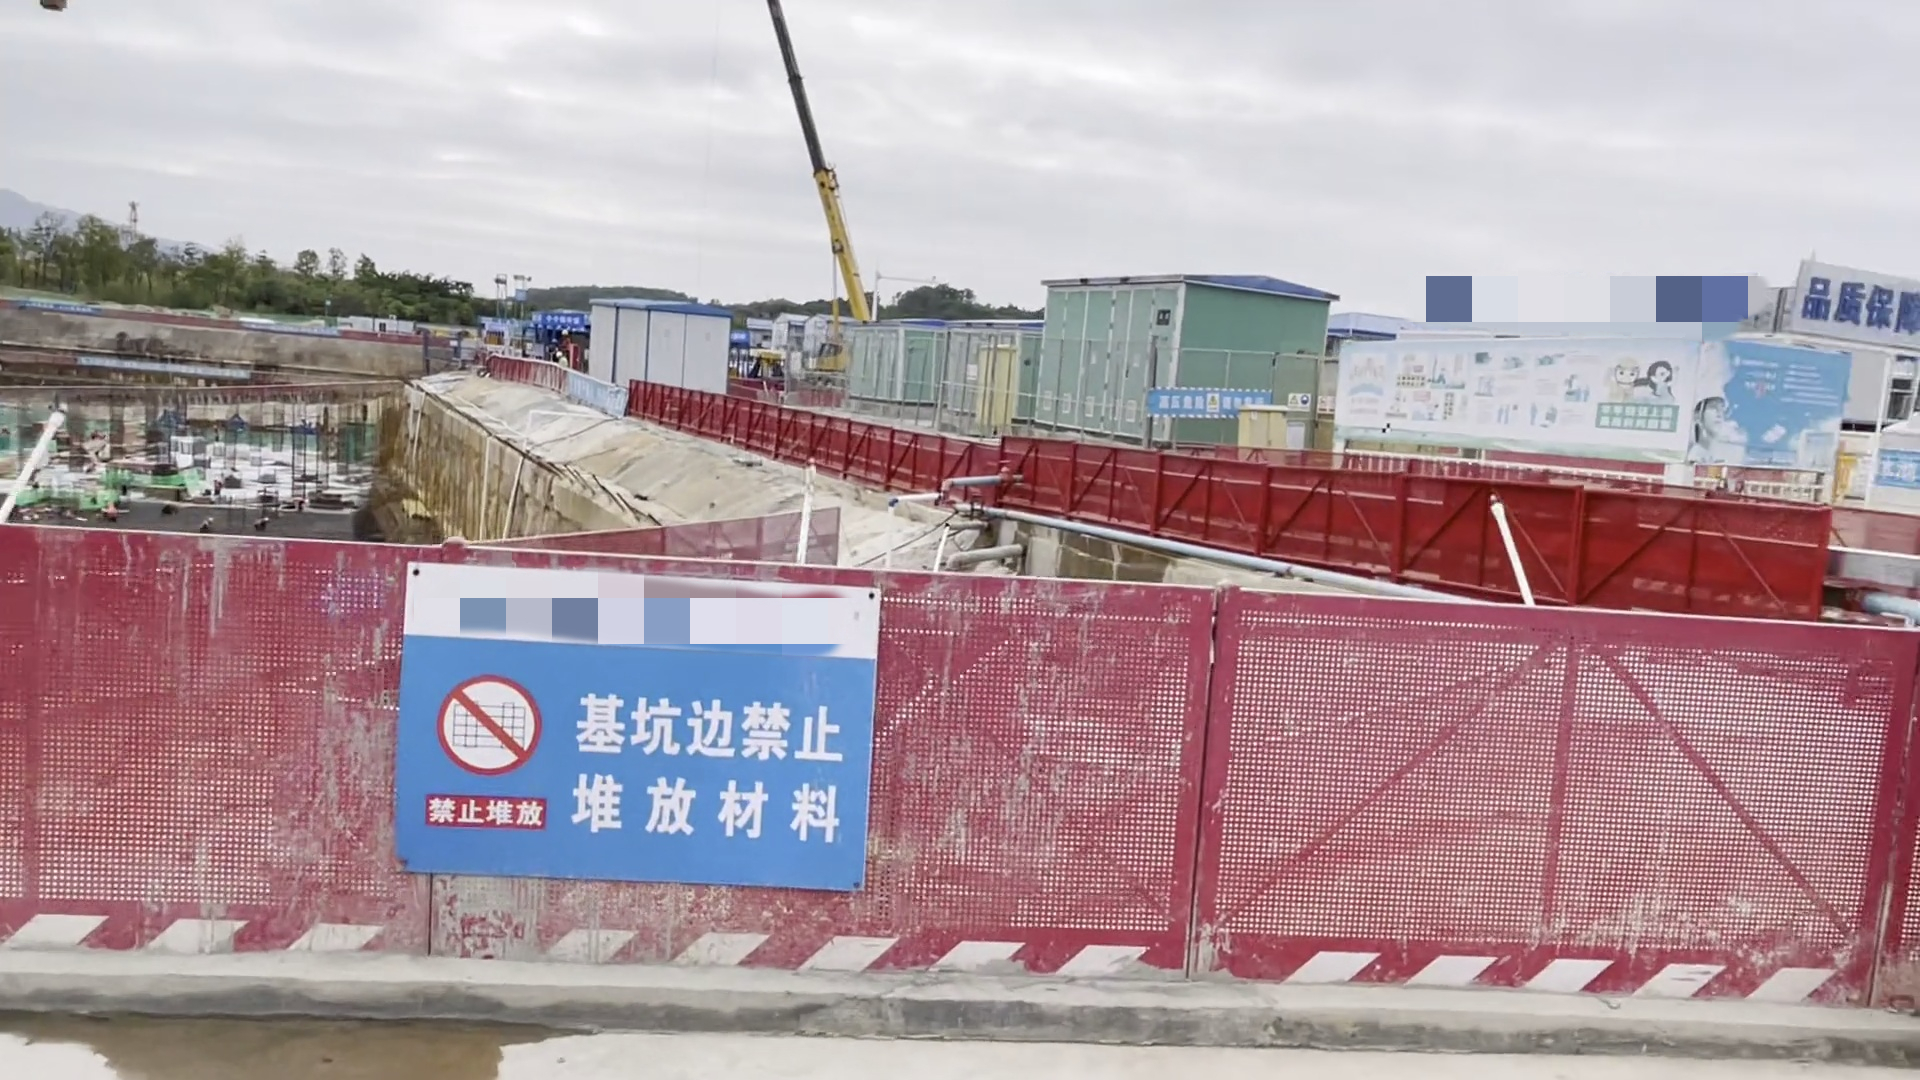slogan: (1770, 249, 1920, 360)
